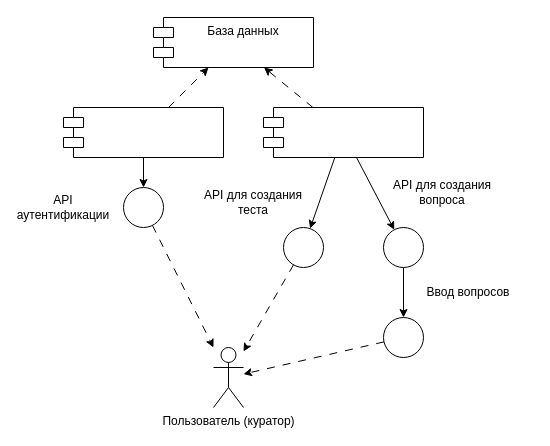
The diagram is 550 pixels wide and 446 high, and some of its shapes have lost their labels. The centre of each missing label's shape, as x and y in pixels:
Аутентификация: the point at 143,132
Тесты: the point at 343,132
